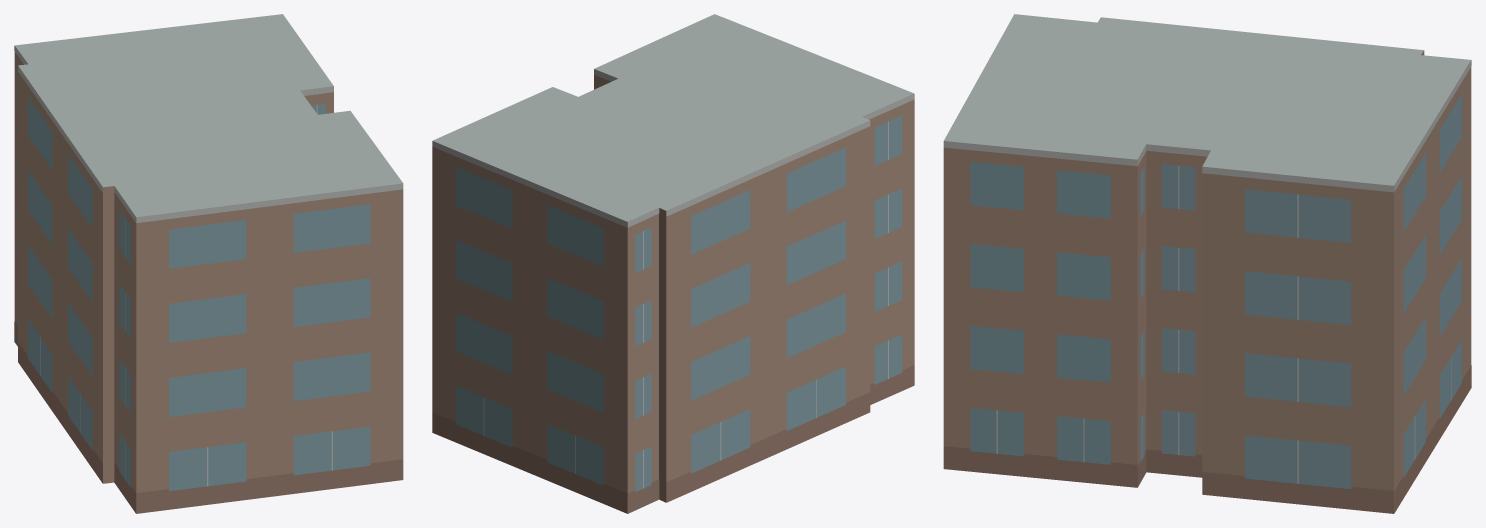
The model's file is survey-upis-32737685.glb.
3 renders of one model, left to right at view 1: azimuth 30°, elevation 25°; view 2: azimuth 150°, elevation 25°; view 3: azimuth 270°, elevation 25°, orthographic. The views are drawn at different scales.
Parts seen in each view (by area): view 1: survey-upis-32737685.tmp; view 2: survey-upis-32737685.tmp; view 3: survey-upis-32737685.tmp.
Part boxes in pixels (bbox=[...]): survey-upis-32737685.tmp: bbox=[14, 14, 403, 513]; survey-upis-32737685.tmp: bbox=[432, 14, 914, 513]; survey-upis-32737685.tmp: bbox=[943, 14, 1471, 513].
Size of the model in its own units: 13.72 by 12.2 by 17.8.
